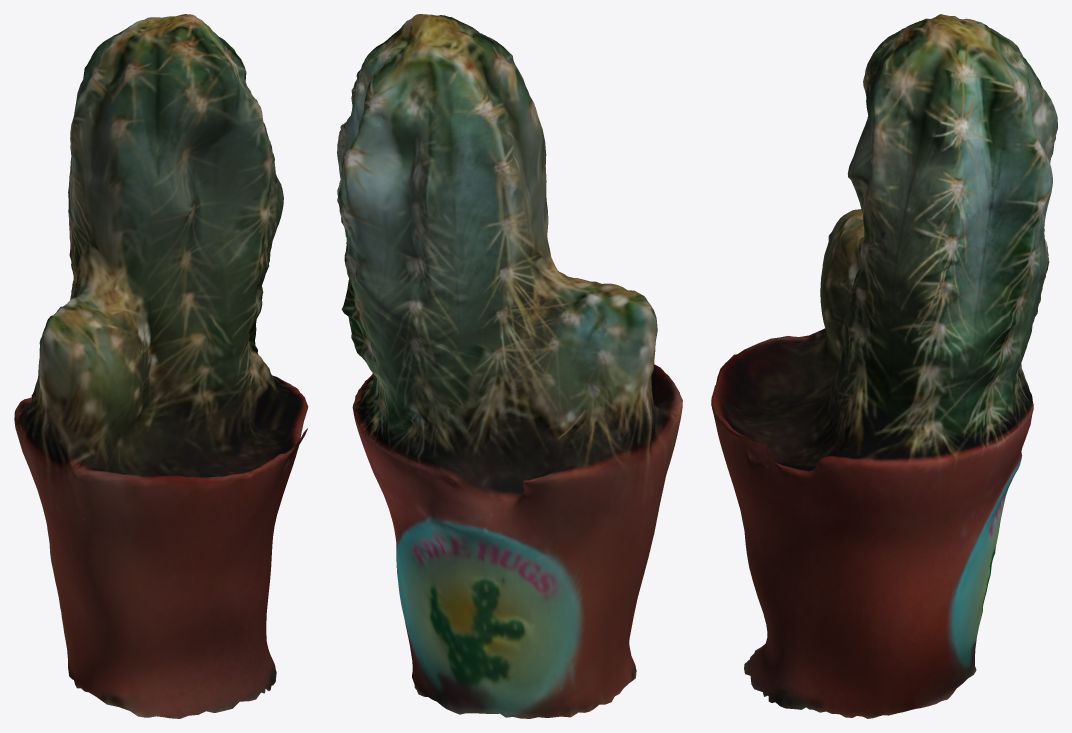
The model's file is Cactus.gltf.
3 views of the same model, side by side, from view 1: azimuth 30°, elevation 25°; view 2: azimuth 150°, elevation 25°; view 3: azimuth 270°, elevation 25° (orthographic). The views are drawn at different scales.
Parts seen in each view (by area): view 1: 3DModel; view 2: 3DModel; view 3: 3DModel.
Boxes of the visible parts, x1,y1,x2,y2 form: 3DModel: (14, 14, 308, 718); 3DModel: (337, 14, 682, 718); 3DModel: (711, 14, 1057, 718).
Size of the model in its own units: 0.2057 by 0.4656 by 0.2168.
Materials: 1 (1 with a texture image).
